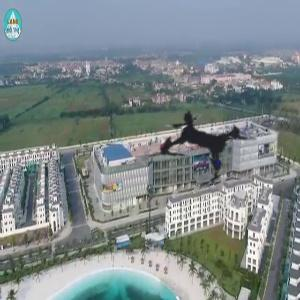drone: (112, 58, 288, 234)
